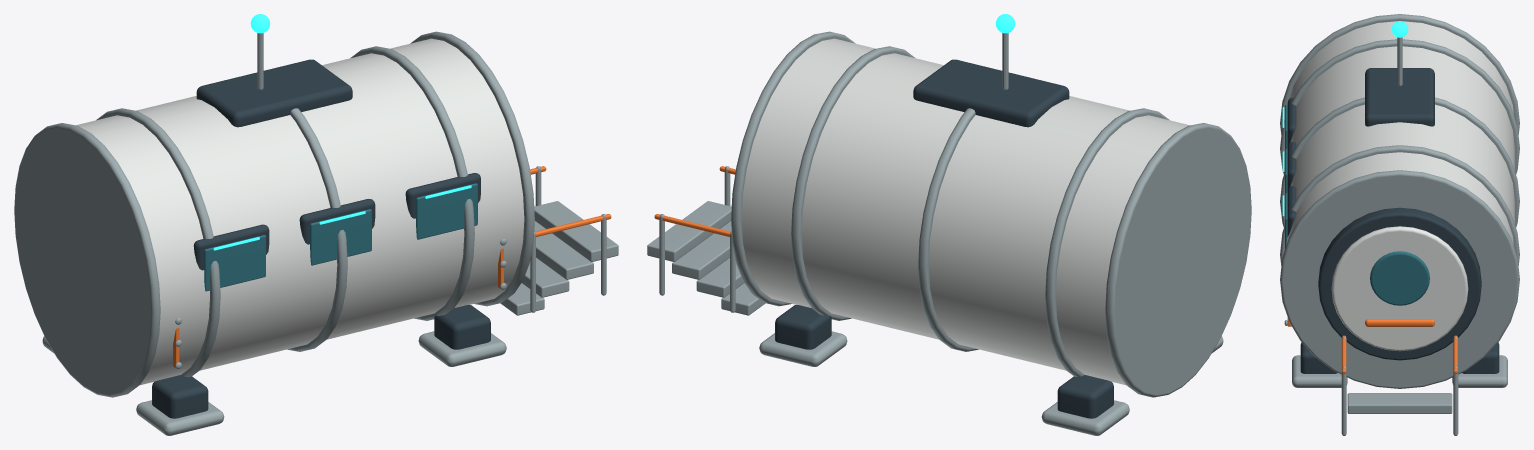
File: habitat.glb
3 renders of one model, left to right at view 1: azimuth 30°, elevation 25°; view 2: azimuth 150°, elevation 25°; view 3: azimuth 270°, elevation 25°, orthographic. The views are drawn at different scales.
Parts seen in each view (by area): view 1: pressure hull, hull reinforcing hoop, roof equipment, hull reinforcing hoop.004, hull reinforcing hoop.003, hull reinforcing hoop.001, hull reinforcing hoop.002, blue window.002, blue window.001, blue window, airlock stair.003, landing foot (+9 smaller); view 2: pressure hull, hull reinforcing hoop, roof equipment, hull reinforcing hoop.004, hull reinforcing hoop.003, hull reinforcing hoop.001, hull reinforcing hoop.002, airlock stair.003, landing foot.001, landing foot.003, airlock stair.002, foot pad.001 (+3 smaller); view 3: pressure hull, hull reinforcing hoop.004, airlock panel, airlock rim, roof equipment, airlock porthole, hull reinforcing hoop, hull reinforcing hoop.001, hull reinforcing hoop.003, airlock stair.003, hull reinforcing hoop.002, foot pad.002 (+10 smaller).
Boxes of the visible parts, bbox=[...] form: pressure hull: bbox=[76, 38, 524, 385]; hull reinforcing hoop: bbox=[14, 123, 160, 397]; roof equipment: bbox=[196, 59, 352, 127]; hull reinforcing hoop.004: bbox=[410, 31, 534, 306]; hull reinforcing hoop.003: bbox=[350, 46, 474, 320]; hull reinforcing hoop.001: bbox=[96, 108, 220, 376]; hull reinforcing hoop.002: bbox=[287, 108, 347, 351]; blue window.002: bbox=[416, 183, 477, 239]; blue window.001: bbox=[310, 209, 371, 265]; blue window: bbox=[204, 235, 265, 291]; airlock stair.003: bbox=[534, 201, 618, 261]; landing foot: bbox=[152, 375, 208, 418]; pressure hull: bbox=[741, 38, 1189, 385]; hull reinforcing hoop: bbox=[1105, 123, 1251, 397]; roof equipment: bbox=[913, 59, 1069, 127]; hull reinforcing hoop.004: bbox=[731, 31, 855, 306]; hull reinforcing hoop.003: bbox=[791, 46, 915, 320]; hull reinforcing hoop.001: bbox=[1045, 108, 1169, 376]; hull reinforcing hoop.002: bbox=[918, 108, 978, 351]; airlock stair.003: bbox=[647, 201, 731, 261]; landing foot.001: bbox=[1057, 375, 1113, 418]; landing foot.003: bbox=[775, 305, 831, 349]; airlock stair.002: bbox=[672, 221, 731, 279]; foot pad.001: bbox=[1041, 400, 1129, 435]; pressure hull: bbox=[1286, 21, 1514, 245]; hull reinforcing hoop.004: bbox=[1280, 170, 1519, 388]; airlock panel: bbox=[1331, 226, 1468, 351]; airlock rim: bbox=[1318, 207, 1481, 360]; roof equipment: bbox=[1365, 68, 1434, 126]; airlock porthole: bbox=[1370, 251, 1429, 305]; hull reinforcing hoop: bbox=[1280, 14, 1519, 134]; hull reinforcing hoop.001: bbox=[1280, 39, 1519, 174]; hull reinforcing hoop.003: bbox=[1280, 145, 1519, 265]; airlock stair.003: bbox=[1347, 393, 1452, 413]; hull reinforcing hoop.002: bbox=[1280, 97, 1519, 227]; foot pad.002: bbox=[1292, 355, 1347, 387].
Size of the model in its own units: 7.17 by 4.6 by 3.44.
